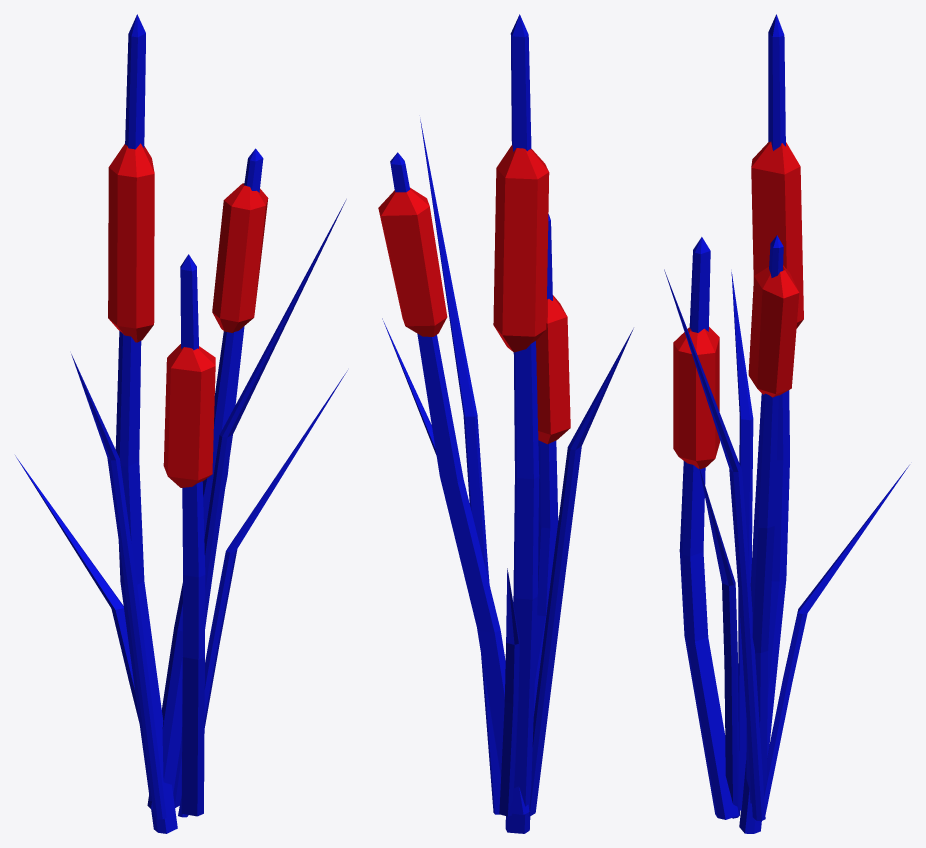
Rendered from SM_Reed3.fbx.
3 renders of one model, left to right at view 1: azimuth 30°, elevation 25°; view 2: azimuth 150°, elevation 25°; view 3: azimuth 270°, elevation 25°, orthographic. The views are drawn at different scales.
Visible parts, largest first — view 1: SM_Reed3; view 2: SM_Reed3; view 3: SM_Reed3.
Part boxes in pixels (x1,y1,x2,y2): SM_Reed3: (15, 14, 347, 833); SM_Reed3: (378, 14, 633, 833); SM_Reed3: (664, 14, 909, 833).
Size of the model in its own units: 40.99 by 120 by 33.58.
